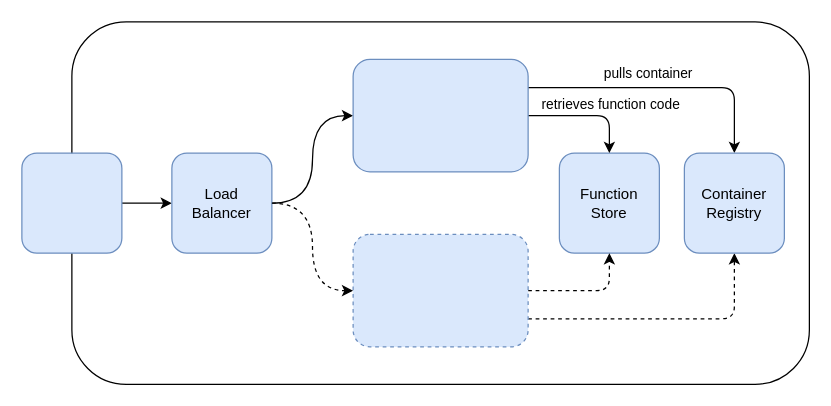
This 831x406 diagram has some shape labels left out. Each missing label, with the centre of its shape:
"API Gateway" belongs at [71,202].
"Sandboxing Execution Engine" belongs at [440,115].
